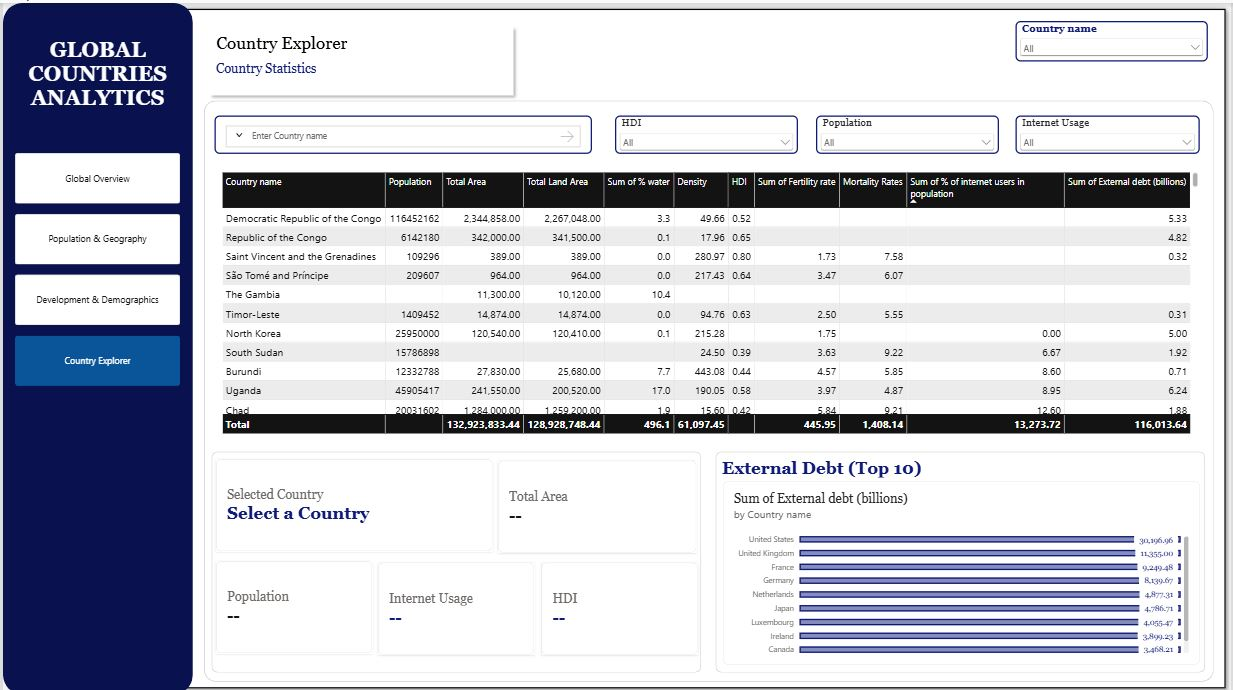

The page's visual inventory and layout, read from the dashboard file:
{"tool":"powerbi","page":{"name":"Country Explorer","canvas":[1920,1080],"ordinal":3},"visuals":[{"type":"shape","box":[0,0,1920.1,1080.4],"z":0},{"type":"shape","box":[313.1,27.1,492.2,124.9],"z":0,"group":"g1"},{"type":"shape","box":[0,0,296.8,1080.4],"z":1000},{"type":"shape","box":[331.3,90.7,457.8,34.4],"z":1000,"group":"g1"},{"type":"pageNavigator","box":[18.1,235.3,258.8,365.6],"z":2000},{"type":"shape","box":[18.1,27.1,258.8,170.1],"z":3000},{"type":"group","id":"g1","title":"Group 1","box":[313.1,27.1,492.2,124.9],"z":4000},{"type":"textbox","box":[1241.4,269.6,56.1,56.1],"z":5000},{"type":"shape","box":[313.1,152,1578,908.4],"z":6000},{"type":"slicer","fields":{"Values":["country_stats.% of internet users in population"]},"box":[1583.5,175.5,287.7,59.7],"z":7000},{"type":"slicer","fields":{"Values":["country_stats.Population"]},"box":[1270.4,175.5,285.9,59.7],"z":8000},{"type":"slicer","fields":{"Values":["country_stats.HDI"]},"box":[955.5,175.5,285.9,59.7],"z":9000},{"type":"tableEx","fields":{"Values":["country_stats.Country name","country_stats.Population","country_stats.Total Area","country_stats.Total Land Area","Sum(country_stats.% water)","country_stats.Density","country_stats.HDI","Sum(country_stats.Fertility rate)","country_stats.Mortality Rates","Sum(country_stats.% of internet users in population)","Sum(country_stats.External debt (billions))"]},"box":[325.7,249.7,1558.1,437.9],"z":10000},{"type":"shape","box":[1114.8,700.1,765.5,345.6],"z":11000},{"type":"hundredPercentStackedBarChart","fields":{"Category":["country_stats.Country name"],"Y":["Sum(country_stats.External debt (billions))"]},"box":[1125.6,747.4,745.6,285.9],"z":12000},{"type":"slicer","fields":{"Values":["country_stats.Country name"]},"box":[1583.5,27.1,300.4,63.3],"z":13000},{"type":"textSlicer","fields":{"Values":["country_stats.Country name"]},"box":[331.2,175.5,589.9,59.7],"z":14000},{"type":"shape","box":[326.1,700.1,765.5,345.6],"z":15000},{"type":"cardVisual","fields":{"Data":["country_stats.Selected Country"]},"box":[331.8,712.7,432.6,144.8],"z":16000},{"type":"cardVisual","fields":{"Data":["country_stats.Selected Population"]},"box":[331.8,873,244.6,144.8],"z":17000},{"type":"cardVisual","fields":{"Data":["country_stats.Selected Total Area"]},"box":[774.6,714.1,310.7,144.8],"z":18000},{"type":"cardVisual","fields":{"Data":["country_stats.Selected HDI"]},"box":[840.7,874.4,244.6,144.8],"z":19000},{"type":"cardVisual","fields":{"Data":["country_stats.Selected Internet Usage"]},"box":[586.2,874.4,244.6,144.8],"z":20000}]}

Visuals, with their boxes in screenshot pixels (x1, y1, x2, y2), scaled from the page's 1920x1080 canvas onto the 1233x690 screenshot:
shape: bbox=[0, 0, 1232, 689]
shape: bbox=[201, 17, 517, 97]
shape: bbox=[0, 0, 191, 689]
shape: bbox=[213, 58, 507, 80]
pageNavigator: bbox=[12, 150, 178, 384]
shape: bbox=[12, 17, 178, 126]
"Group 1" group: bbox=[201, 17, 517, 97]
textbox: bbox=[797, 172, 833, 208]
shape: bbox=[201, 97, 1214, 677]
slicer - country_stats.% of internet users in population: bbox=[1017, 112, 1202, 150]
slicer - country_stats.Population: bbox=[816, 112, 999, 150]
slicer - country_stats.HDI: bbox=[614, 112, 797, 150]
tableEx - country_stats.Country name x country_stats.Population: bbox=[209, 160, 1210, 439]
shape: bbox=[716, 447, 1208, 668]
hundredPercentStackedBarChart - country_stats.Country name x Sum(country_stats.External debt (billions)): bbox=[723, 478, 1202, 660]
slicer - country_stats.Country name: bbox=[1017, 17, 1210, 58]
textSlicer - country_stats.Country name: bbox=[213, 112, 592, 150]
shape: bbox=[209, 447, 701, 668]
cardVisual - country_stats.Selected Country: bbox=[213, 455, 491, 548]
cardVisual - country_stats.Selected Population: bbox=[213, 558, 370, 650]
cardVisual - country_stats.Selected Total Area: bbox=[497, 456, 697, 549]
cardVisual - country_stats.Selected HDI: bbox=[540, 559, 697, 651]
cardVisual - country_stats.Selected Internet Usage: bbox=[376, 559, 534, 651]
